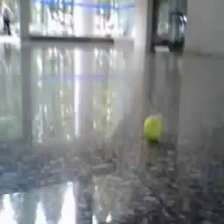tennis: (143, 115, 162, 138)
